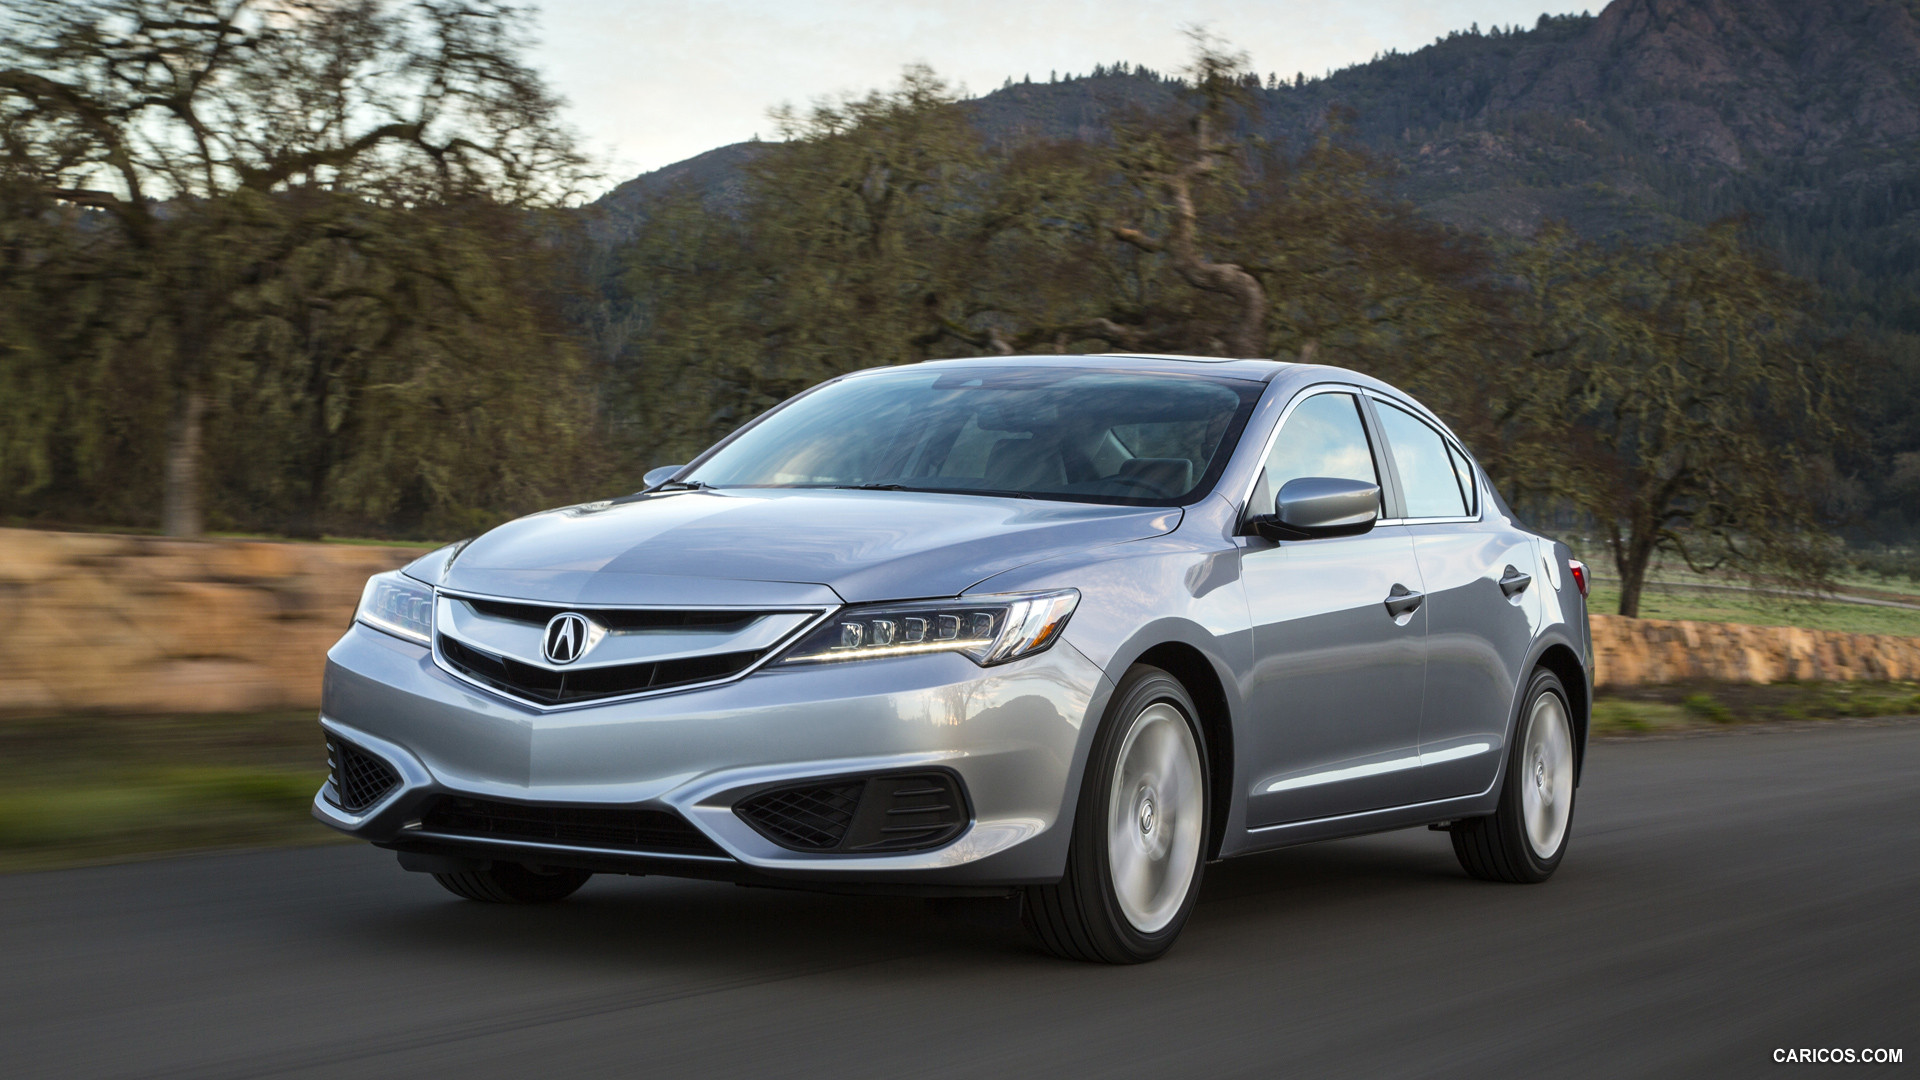Fog Lamp & Scope: (737, 766, 971, 851)
Front: (307, 512, 1164, 884)
Front Bumper: (305, 713, 1084, 851)
Grill: (434, 609, 806, 698)
Headlight: (767, 591, 1077, 670)
